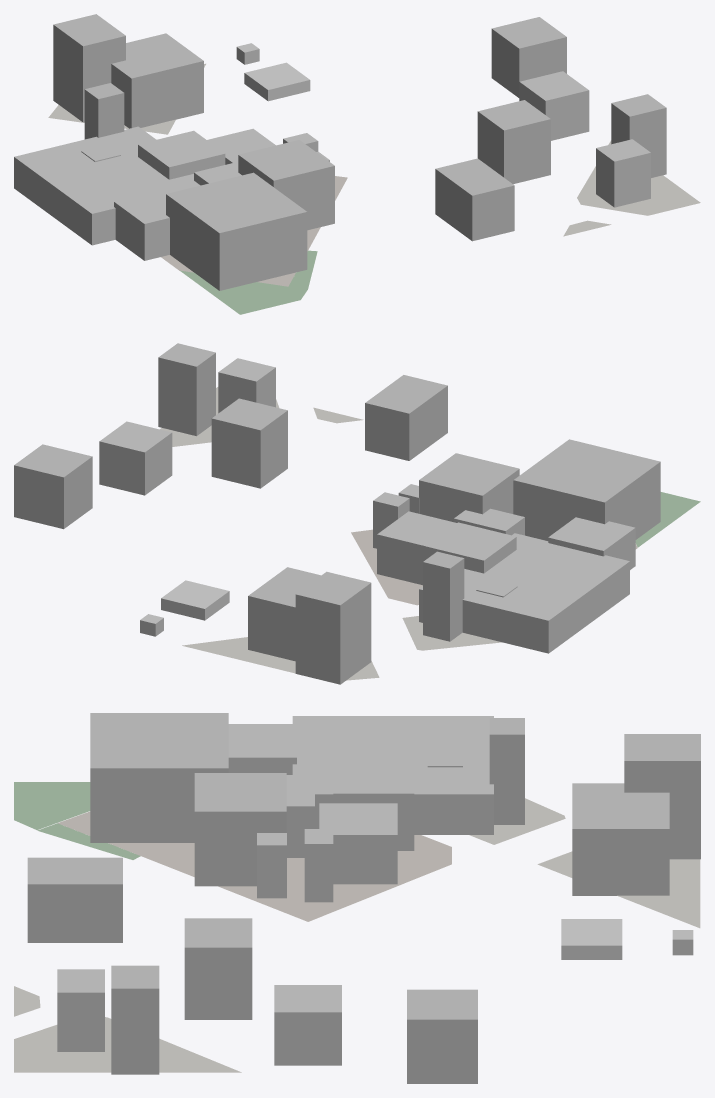
The model's file is 128_95_mid.glb.
3 renders of one model, top to bottom at view 1: azimuth 30°, elevation 25°; view 2: azimuth 150°, elevation 25°; view 3: azimuth 270°, elevation 25°, orthographic. The views are drawn at different scales.
Size of the model in its own units: 563 by 79.43 by 500.
